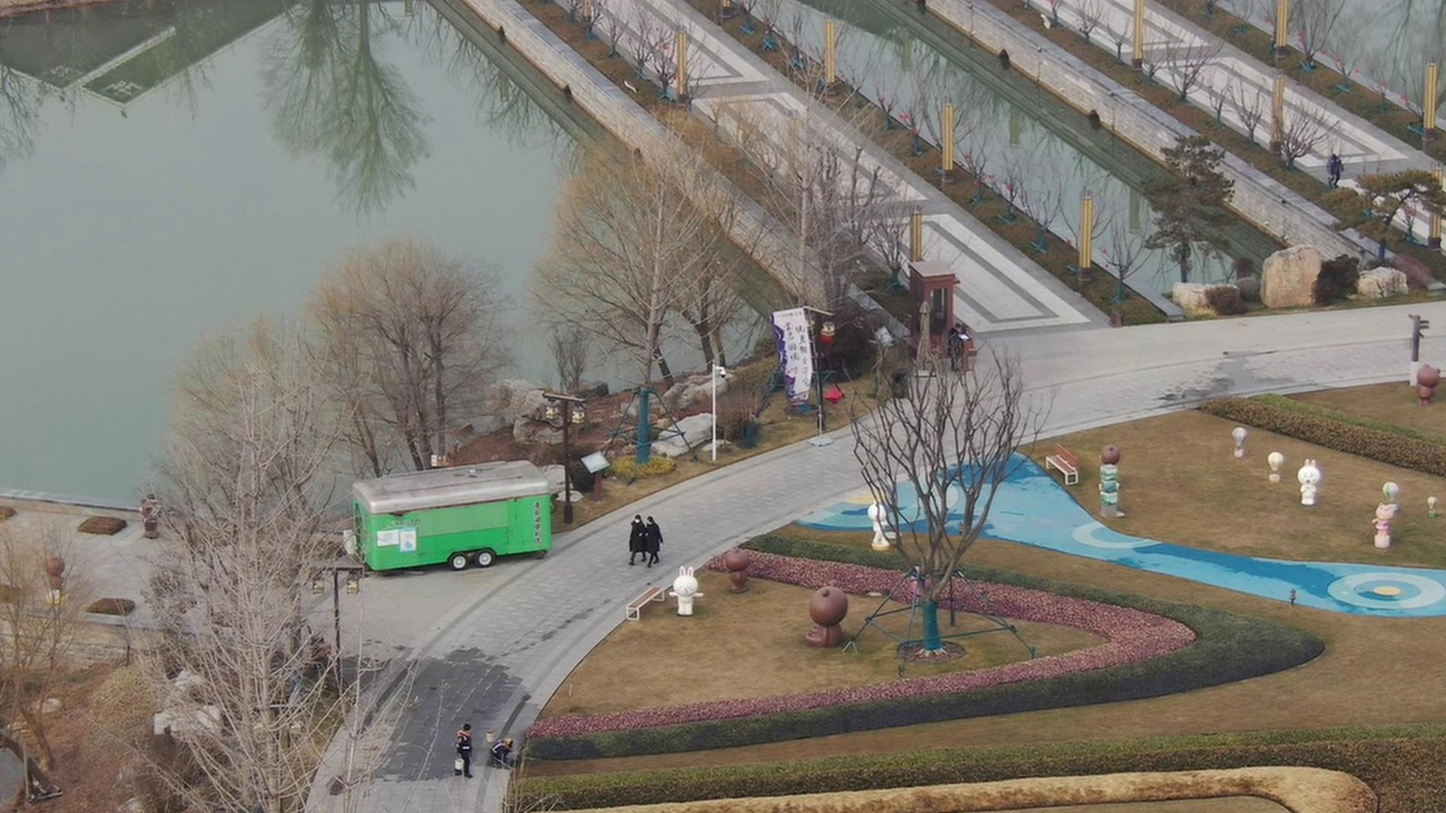class_2: (623, 516, 666, 577)
human: (452, 724, 480, 790), (486, 738, 512, 784)
